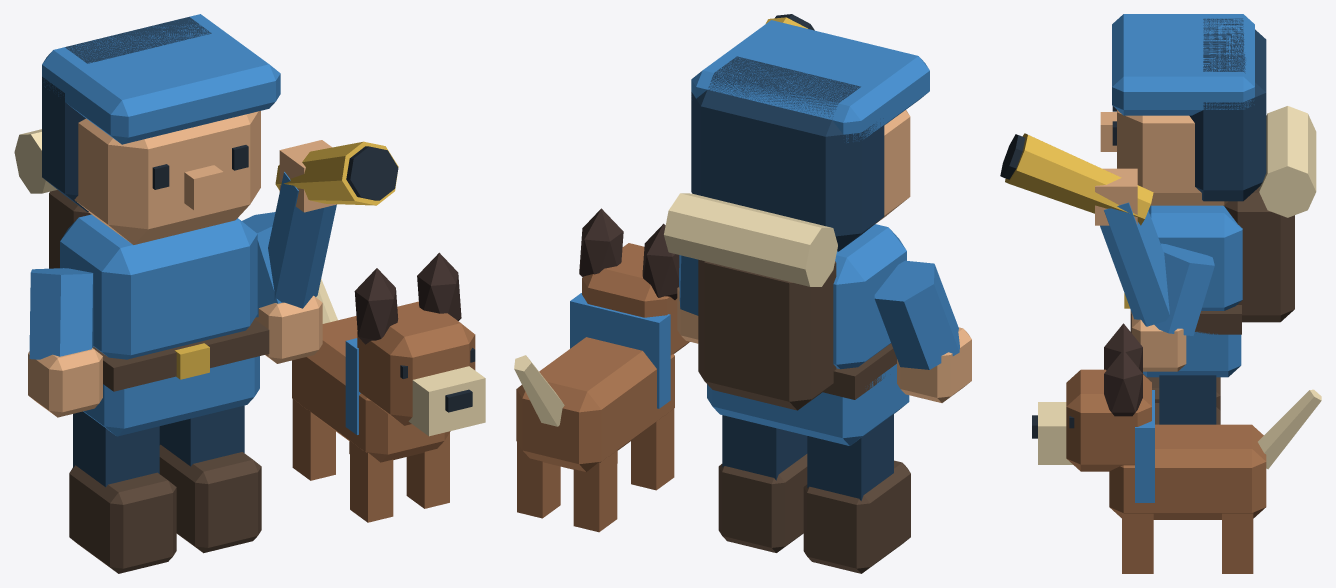
File: u_scout.glb
3 renders of one model, left to right at view 1: azimuth 30°, elevation 25°; view 2: azimuth 150°, elevation 25°; view 3: azimuth 270°, elevation 25°, orthographic. The views are drawn at different scales.
Visible parts, largest first — view 1: u_scout; view 2: u_scout; view 3: u_scout.
Boxes of the visible parts, left/top/right/bottom form: u_scout: left=14, top=14, right=485, bottom=573; u_scout: left=514, top=14, right=971, bottom=573; u_scout: left=1000, top=14, right=1321, bottom=573.
Bounding box in the file's own units: 0.2846 × 0.3255 × 0.2251.
